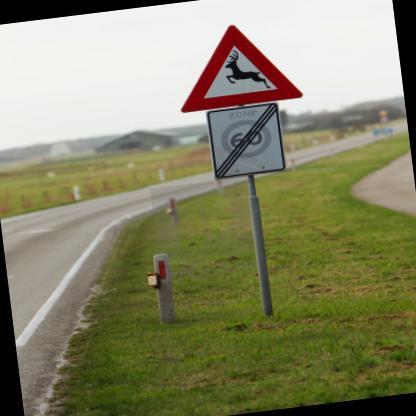road_sign: (181, 25, 302, 112), (209, 103, 284, 178)
